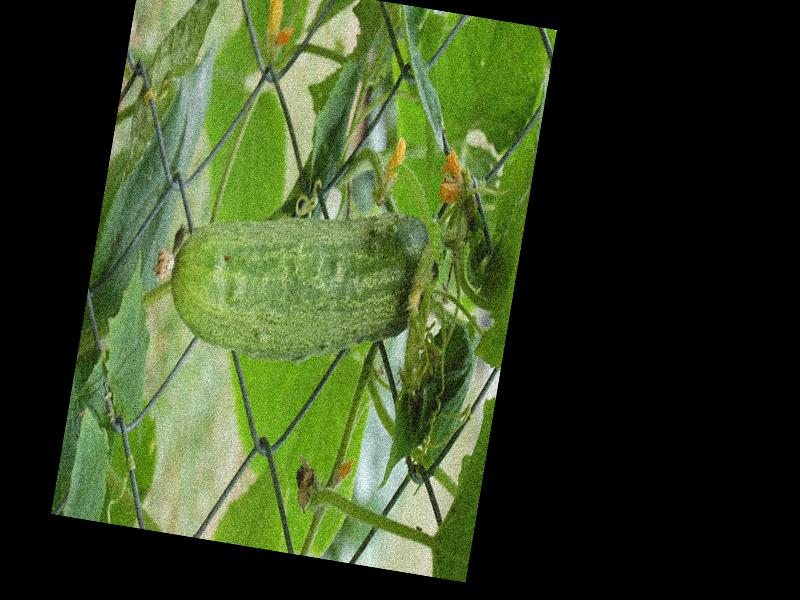Cucumber: (146, 180, 444, 380)
